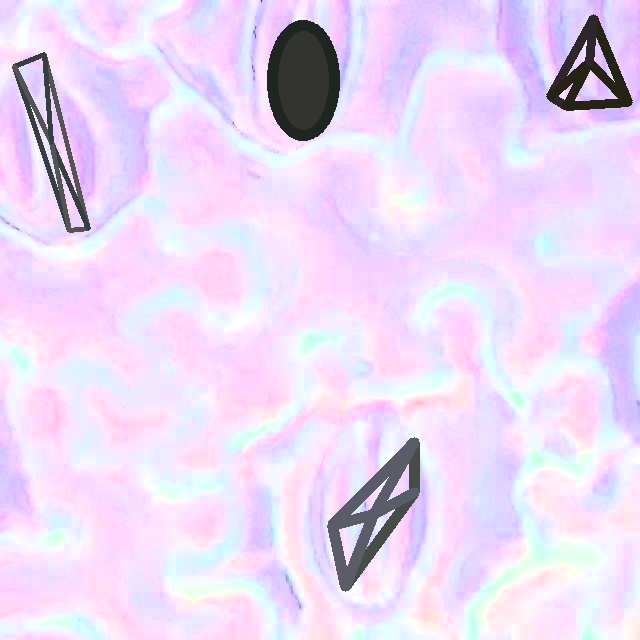open: (327, 437, 419, 591), (12, 52, 90, 232), (267, 19, 339, 140), (546, 14, 632, 110)
